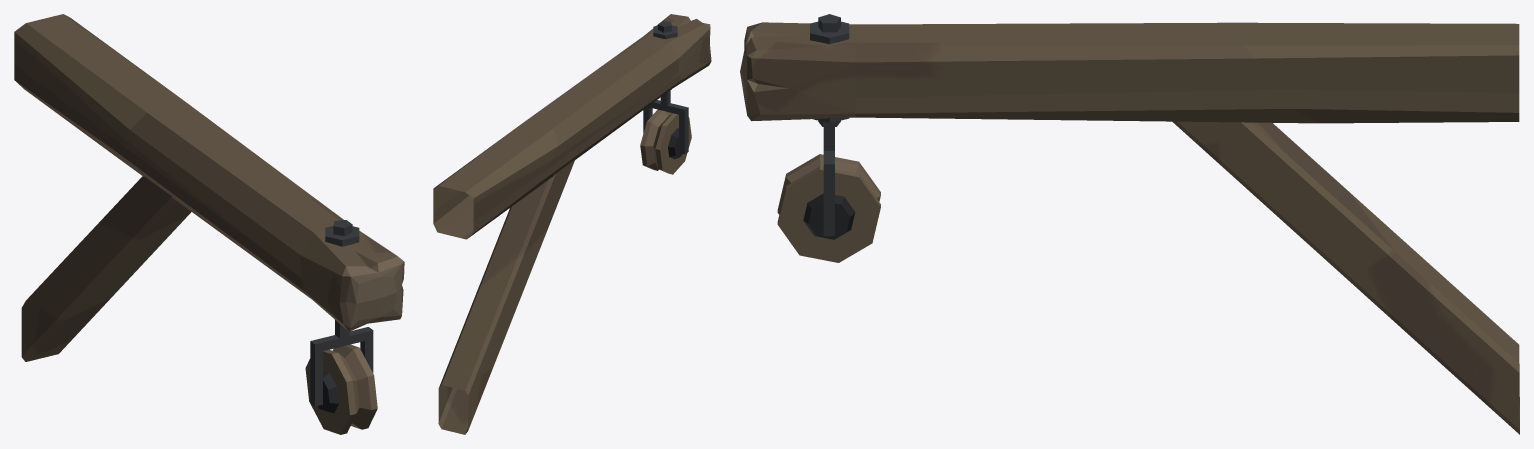
File: kingdom_SM_Prop_Tether_Beam_04.gltf
3 renders of one model, left to right at view 1: azimuth 30°, elevation 25°; view 2: azimuth 150°, elevation 25°; view 3: azimuth 270°, elevation 25°, orthographic. The views are drawn at different scales.
Parts seen in each view (by area): view 1: SM_Prop_Tether_Beam_04; view 2: SM_Prop_Tether_Beam_04; view 3: SM_Prop_Tether_Beam_04.
Boxes of the visible parts, <box> form: SM_Prop_Tether_Beam_04: <box>14,14,404,434</box>; SM_Prop_Tether_Beam_04: <box>433,14,711,434</box>; SM_Prop_Tether_Beam_04: <box>740,14,1519,434</box>.
Bounding box in the file's own units: 0.1777 × 0.9885 × 1.71.
Materials: 1 (1 with a texture image).
